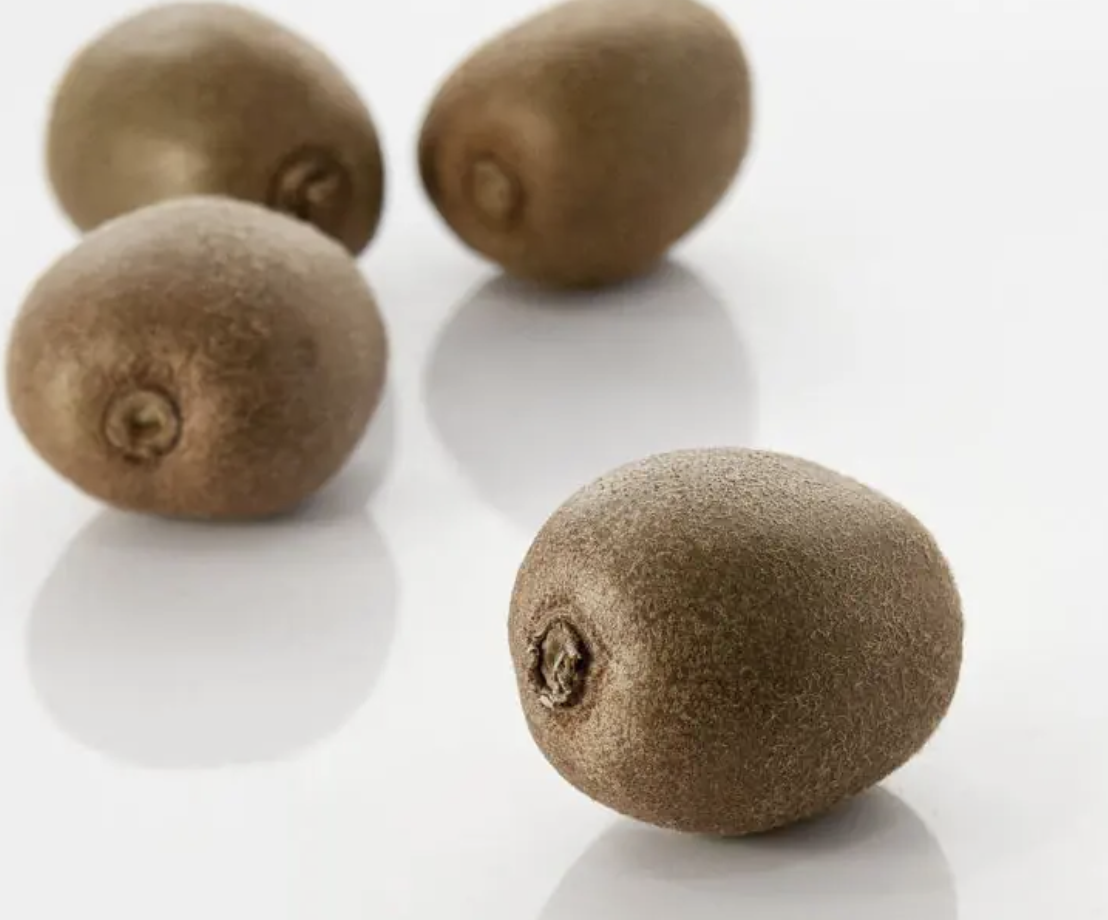kiwi: (466, 418, 1005, 859), (0, 193, 442, 551)
